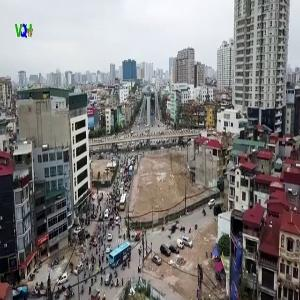drone: (160, 216, 193, 249)
